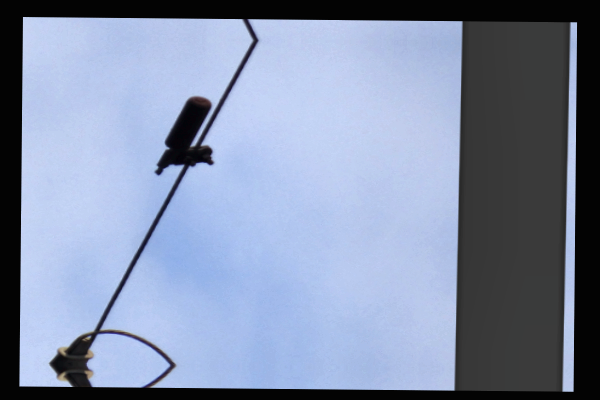damper_defect: (148, 92, 220, 181)
